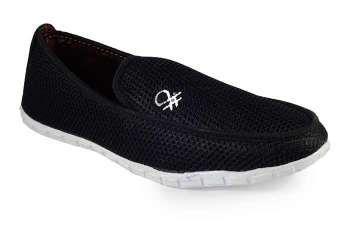Footwear: (17, 19, 336, 192)
